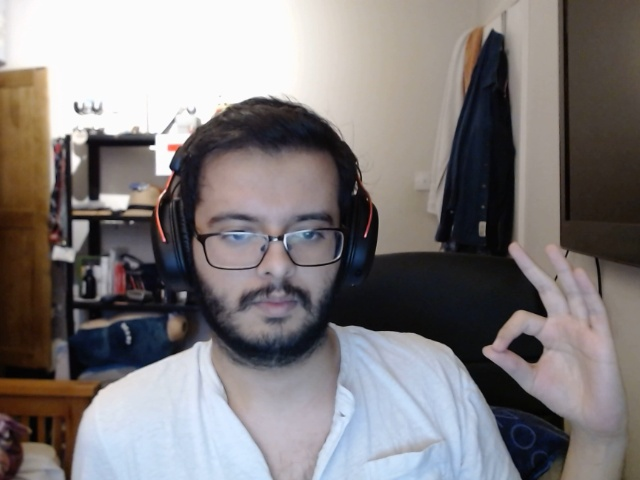Okay: (479, 234, 630, 431)
